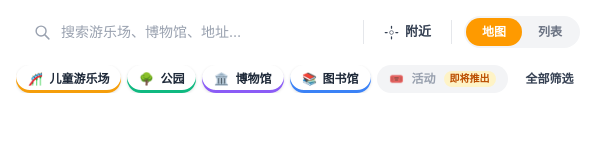
search suggestions › pair both names on one line, since the row can match on either
In the dropdown with placeholder "搜索游乐场、博物馆、地址…": (206,32) [61,22,351,42], type "金门"
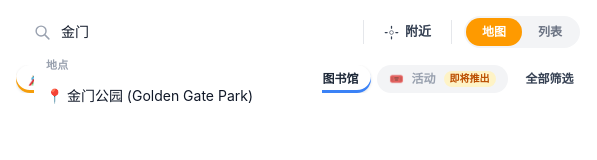
Expected: the option "📍 金门公园 (Golden Gate Park)" is shown, [34,78,322,114]
